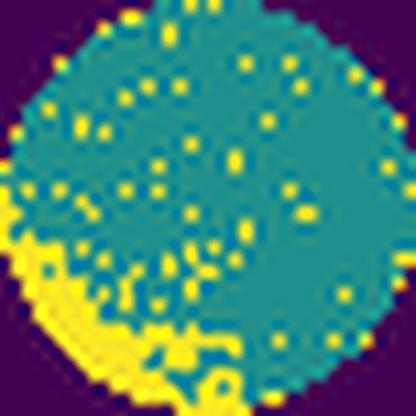Edge-Loc: (0, 181, 257, 416)
